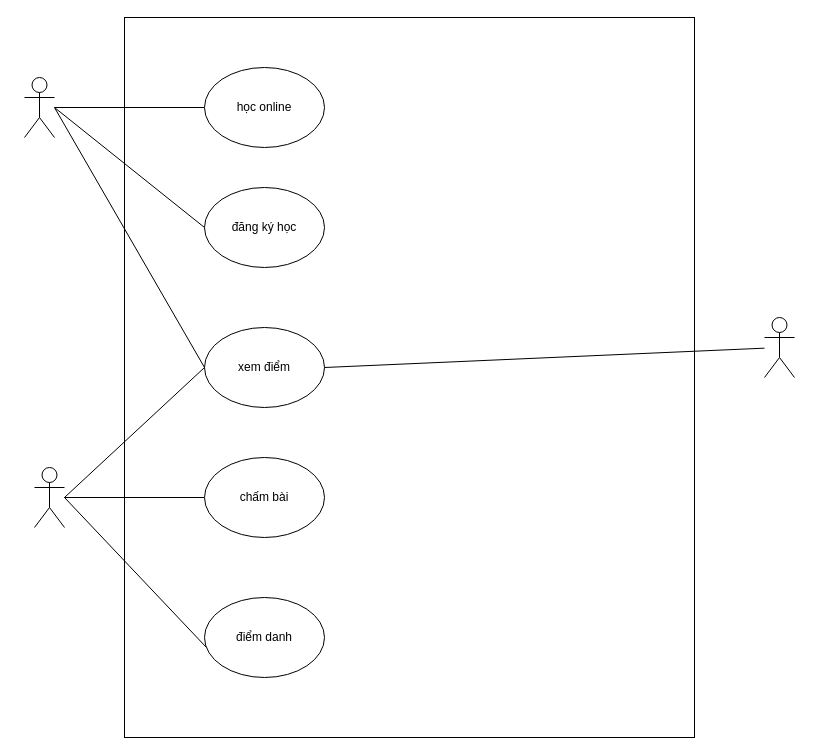
The diagram is 813 pixels wide and 755 high, and some of its shapes have lost their labels. The shapes that lost their labels are listed below. From the top down, each one's centre as x and y in pixels, then its label:
At (39,107): "học viên".
At (779,347): "admin".
At (49,497): "giảng viên".
